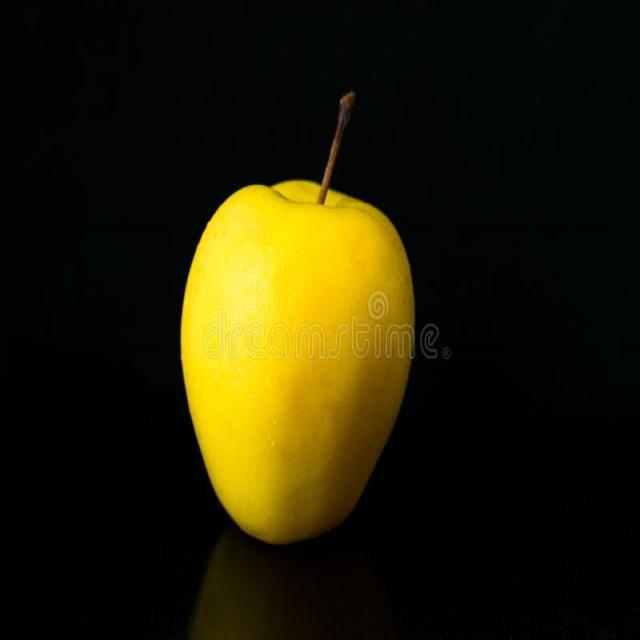Fresh Apple: (185, 182, 430, 532)
